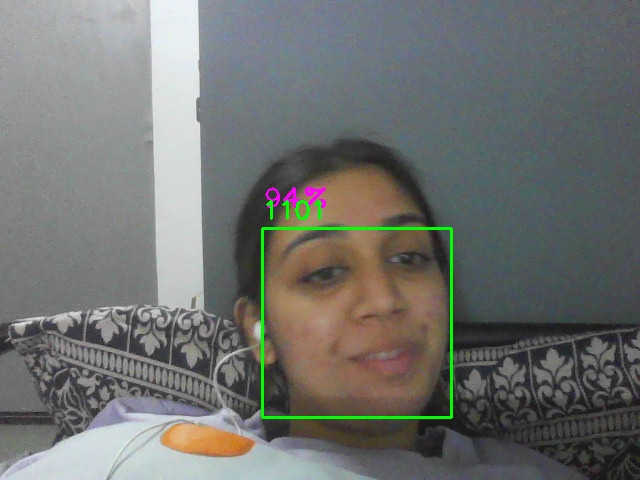real: (262, 228, 452, 418)
